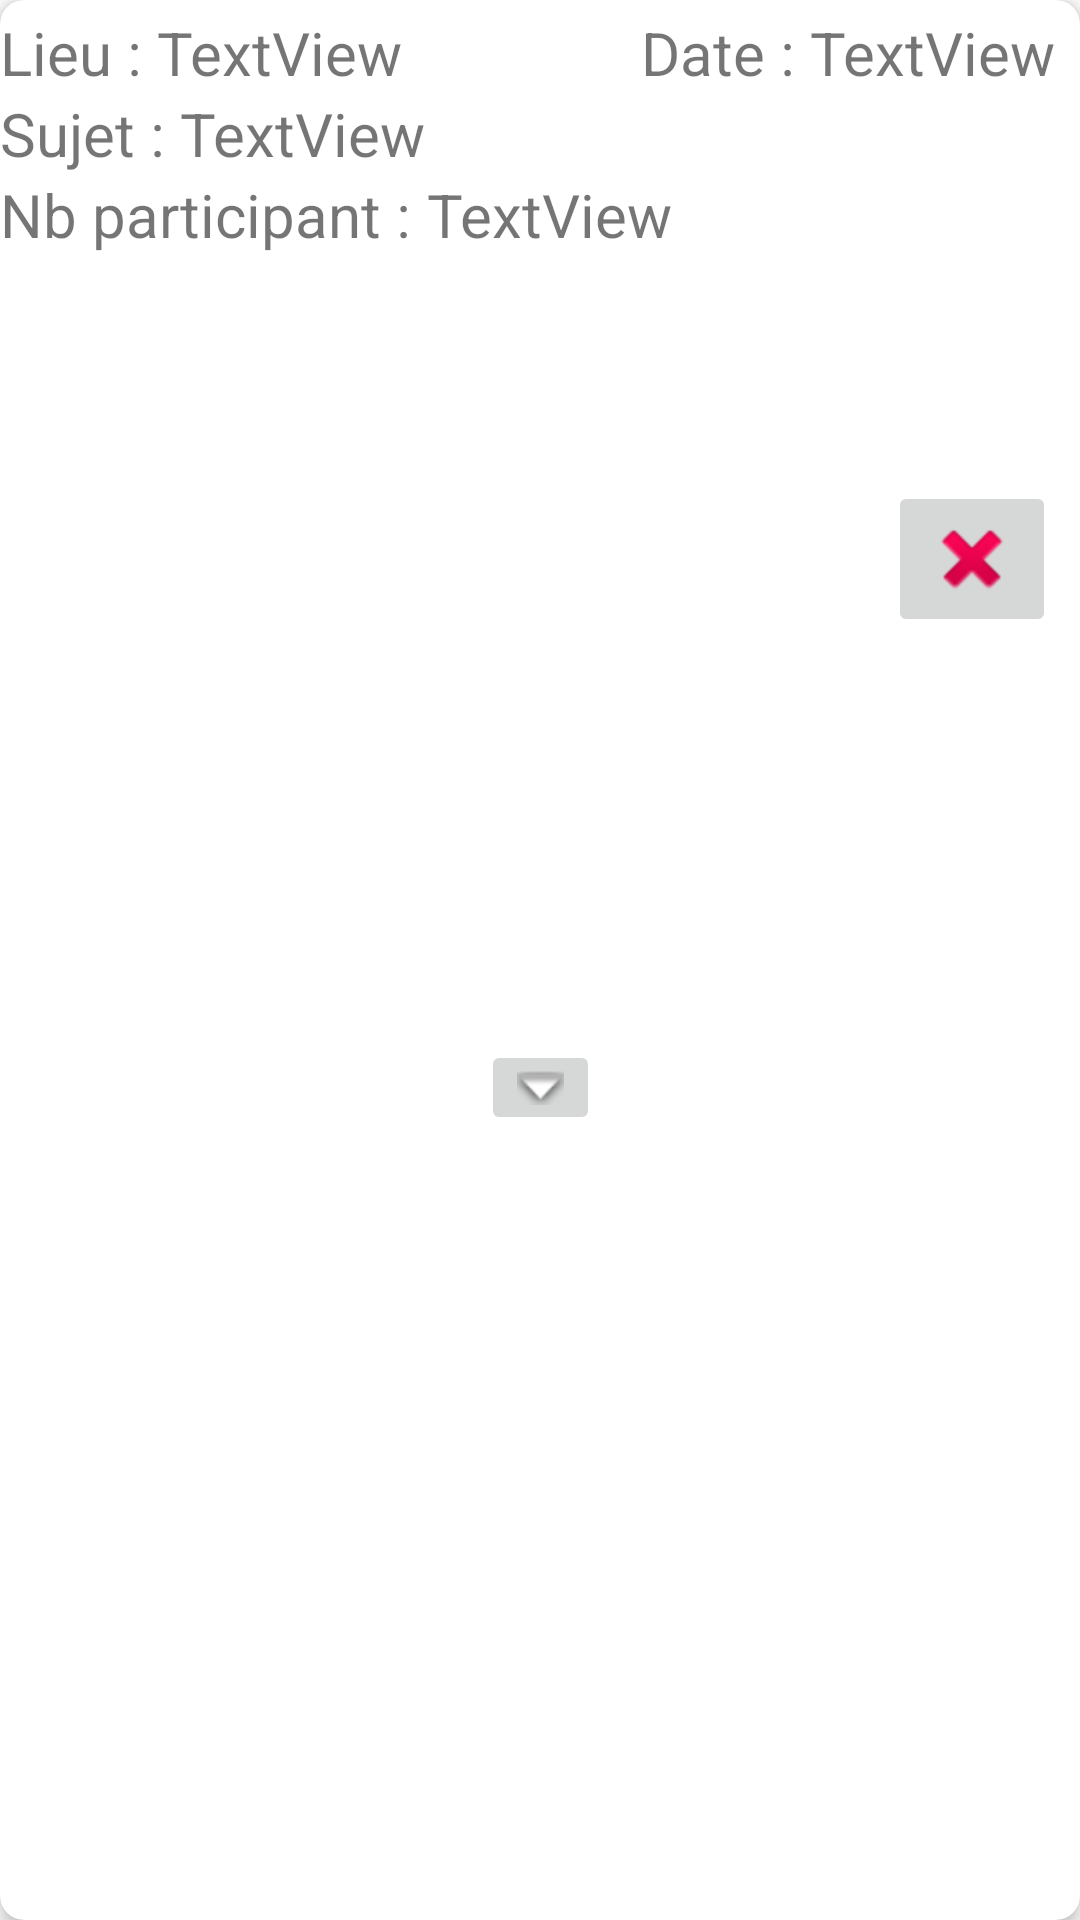

Locate icon controls on the screen. Image size 1080×1920, boxes as (x1, y1, x2, y2).
arrow down float: (493, 1058, 588, 1117)
delete: (900, 499, 1044, 619)
